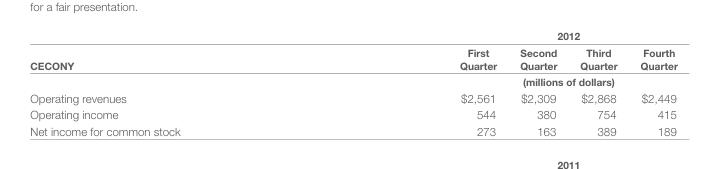table: (29, 29, 676, 137)
table column: (29, 29, 319, 137), (319, 29, 507, 137), (567, 29, 628, 137), (507, 29, 567, 137), (628, 29, 676, 137)
table column header: (29, 29, 676, 89)
table row: (29, 43, 676, 73), (29, 105, 676, 122), (29, 73, 676, 89), (29, 89, 676, 105), (29, 122, 676, 137), (29, 29, 676, 43)
table spanning cell: (29, 29, 319, 89), (319, 73, 676, 89), (319, 29, 676, 43)
